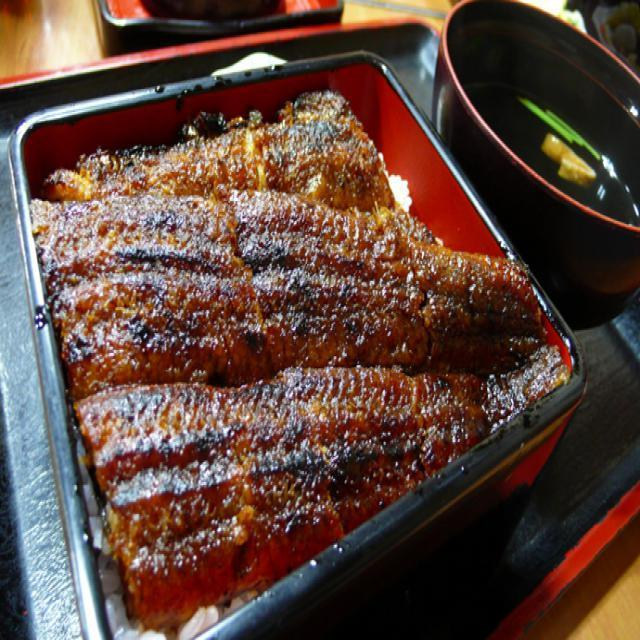eels-on-rice: (15, 59, 588, 638)
